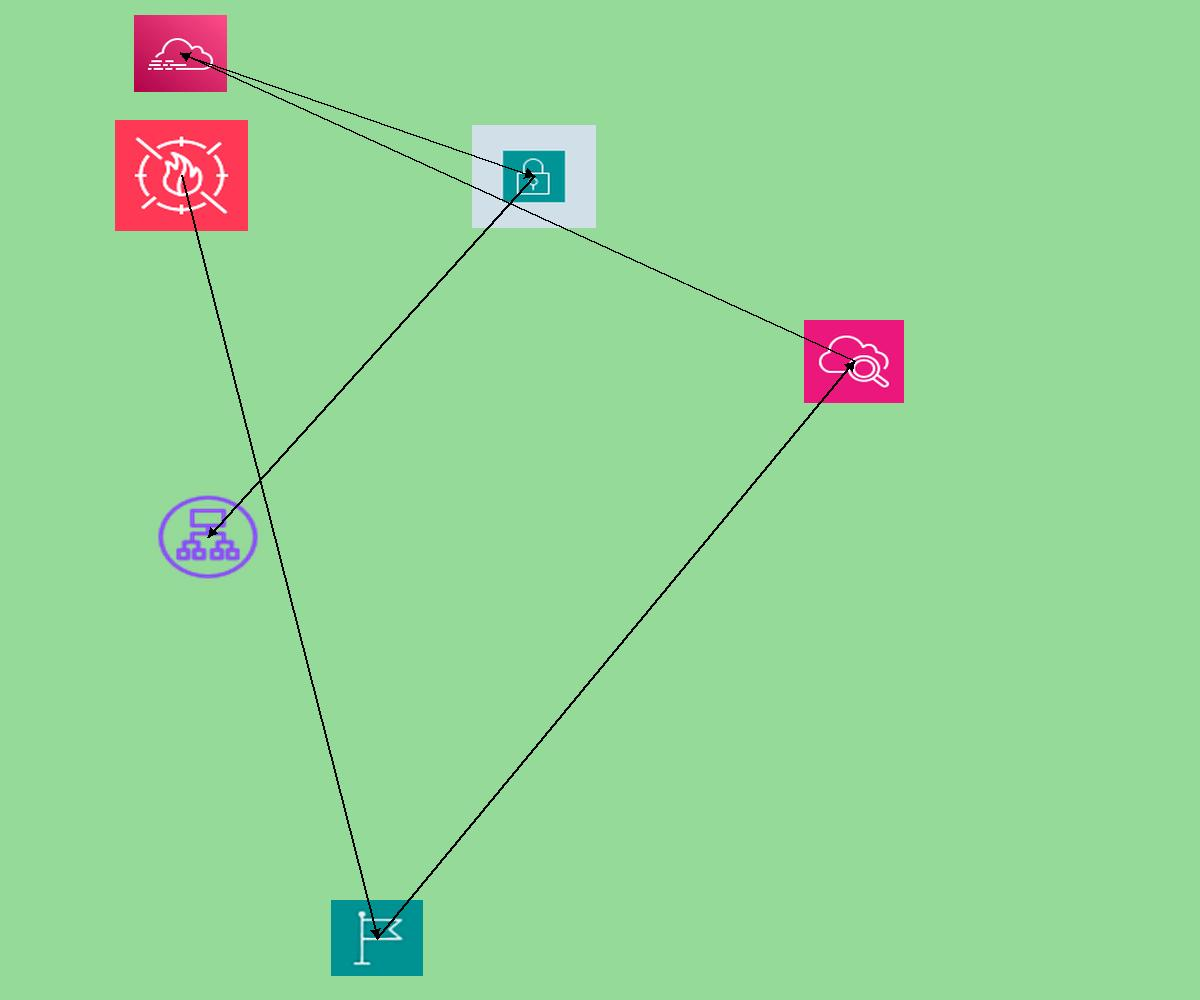AWS-CloudTrail: (134, 15, 227, 92)
AWS-CloudWatch: (804, 320, 904, 403)
AWS-Private-subnet: (472, 125, 596, 228)
AWS-Region: (331, 900, 423, 976)
AWS-Res_Elastic-Load-Balancing_Application-Load-Balancer: (154, 492, 262, 582)
AWS-WAF: (115, 120, 248, 231)
